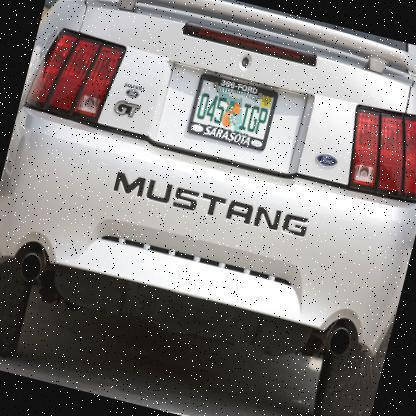License-Plate: (184, 69, 283, 158)
